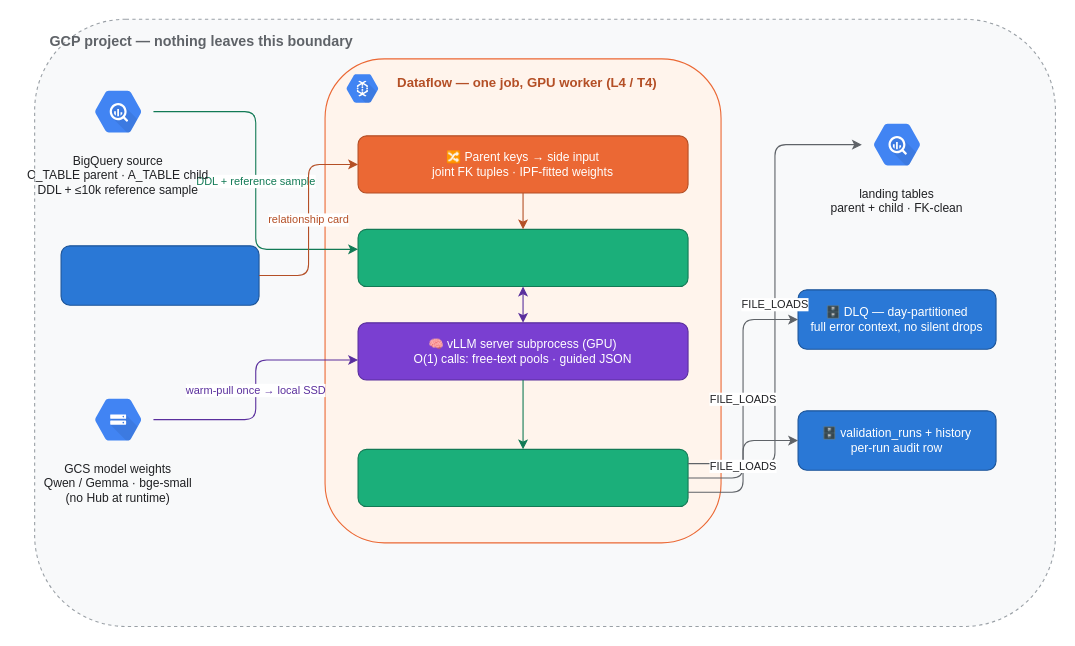
Some shapes in this 1075 by 646 pixel diagram are drawn without their labels. The centre of each missing label's shape, as x and y in pixels:
⚙️ Engine b1_rag / b2_library CPU-vectorized bulk sampling: pixel 522 257
📇 config/relationships/*.yaml PK / FK as versioned config: pixel 159 275
🛡️ Validation Pydantic → Pandera → uniqueness → gate: pixel 522 477
